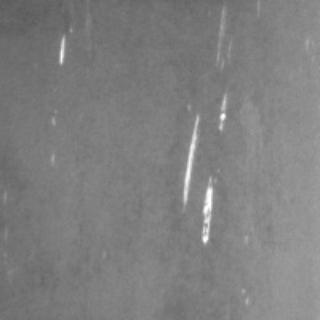scratches: (177, 91, 226, 243), (50, 23, 74, 67)
